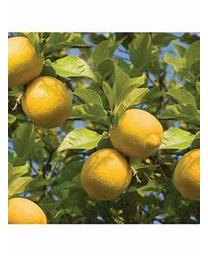lemon: (109, 109, 164, 160), (21, 77, 74, 129), (82, 149, 132, 201), (7, 37, 44, 87), (173, 147, 201, 202)
